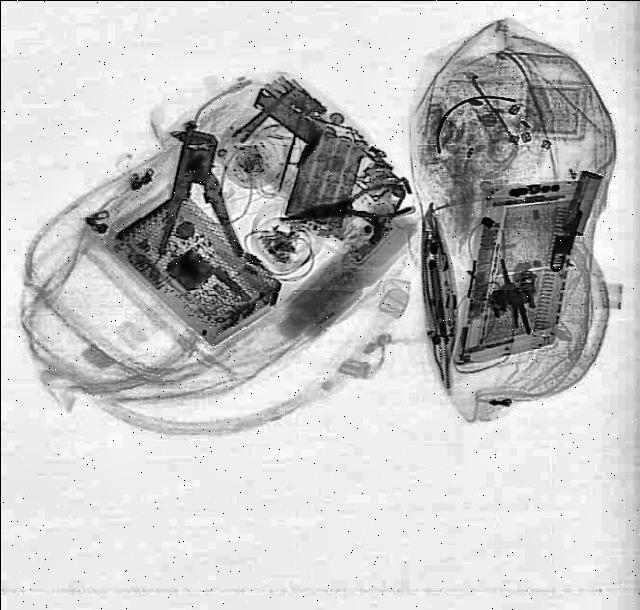Knife: (233, 84, 301, 144)
Pliers: (158, 126, 245, 260), (278, 180, 417, 236)
